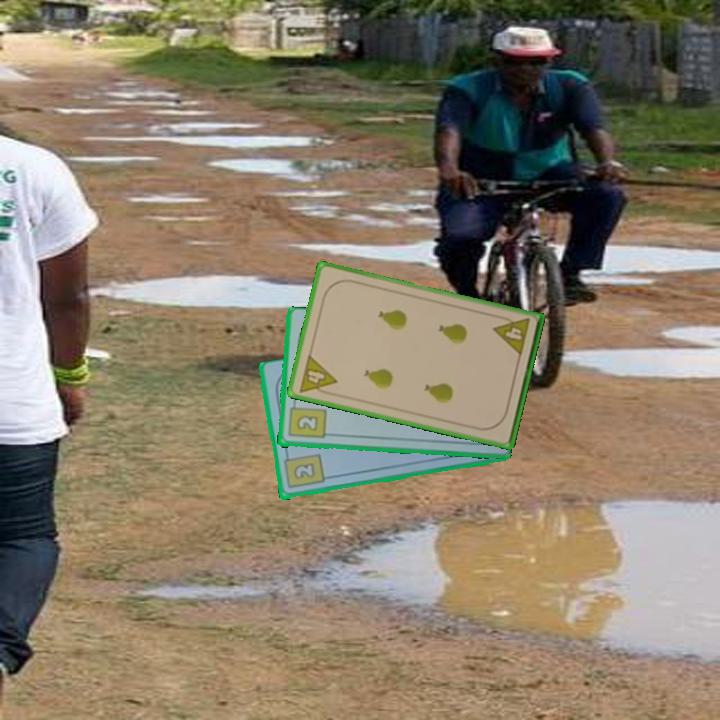2b: (280, 449, 326, 492), (285, 398, 328, 441)
4p: (295, 351, 340, 399), (490, 312, 533, 359)
